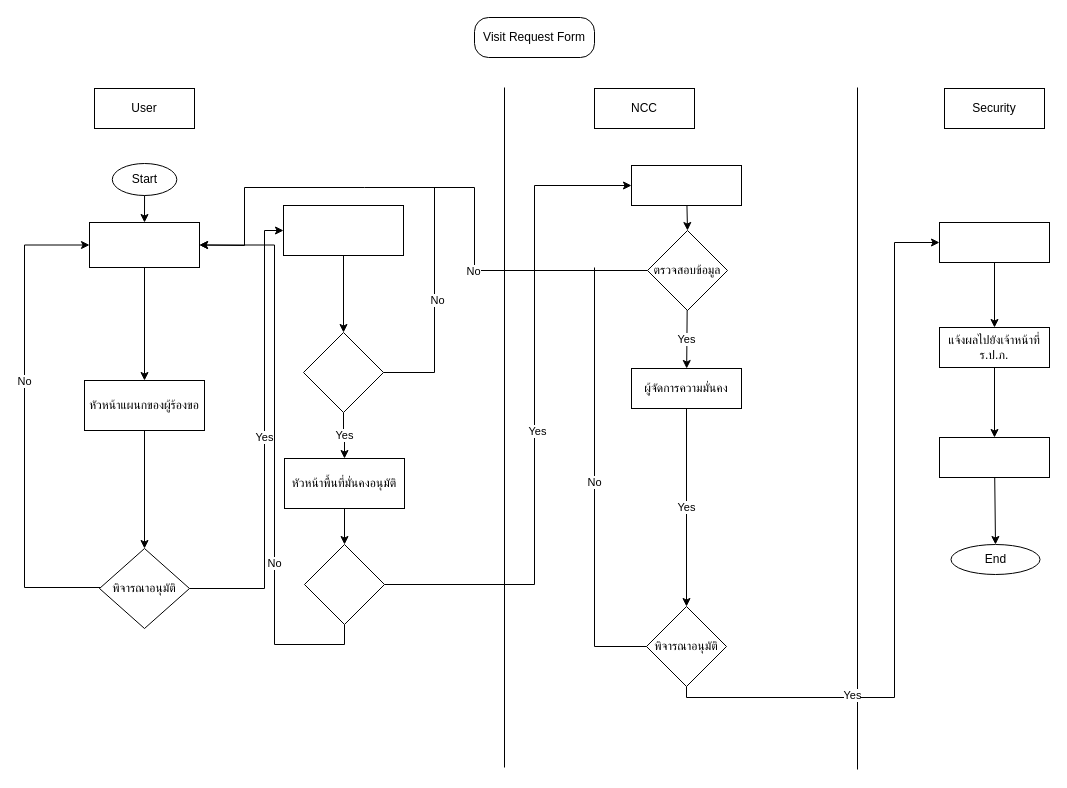
The diagram is 1067 pixels wide and 788 high, and some of its shapes have lost their labels. The shapes that lost their labels are listed below. From the top down, each one's box as (x1, y1, x2, y2) in pixels, then its label:
(630, 164, 742, 206): Verify Data
(88, 222, 200, 268): แผนกทำการบันทึกข้อมูลเพื่อร้องขอเข้าพื้นที่
(282, 204, 404, 256): ระบบเช็คว่าเป็นพื้นที่มั่นคงไหม
(938, 222, 1050, 262): แจ้งผลไปยังผู้ร้องขอ
(302, 332, 384, 412): เป็นพื้นที่มั่นคง
(938, 436, 1050, 478): บันทึกข้อมูลในแบบฟอร์ม VRF
(304, 544, 384, 624): อนุมัติ
